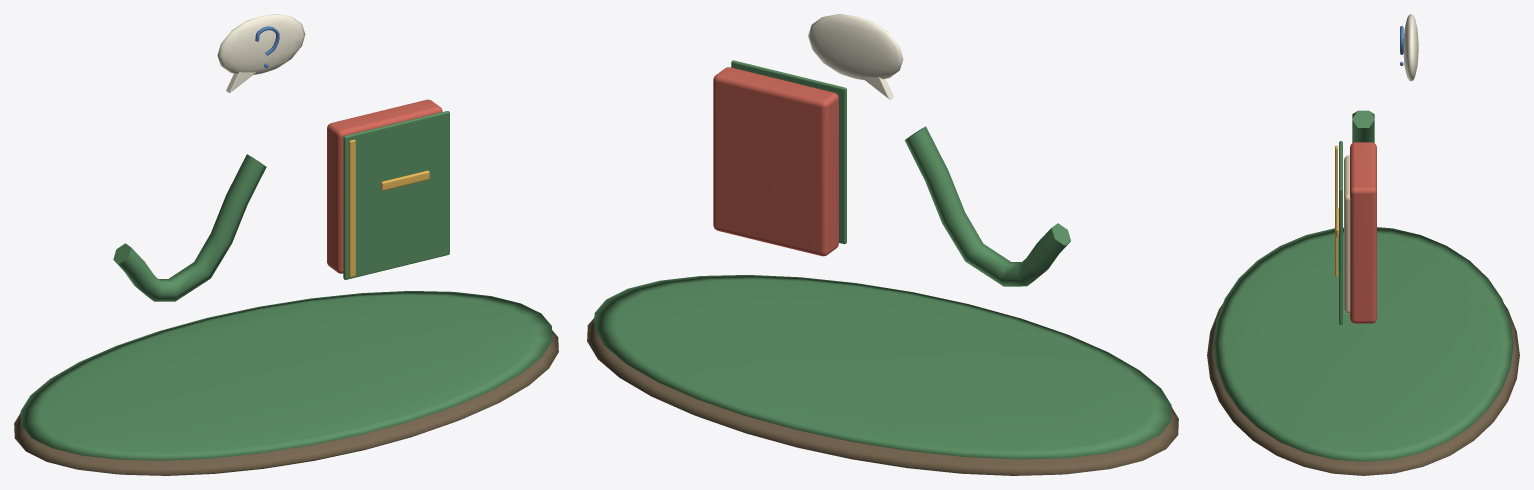
Rendered from complete-third-answer-case-file.glb.
The picture shows the model from 3 angles, left to right: view 1: azimuth 30°, elevation 25°; view 2: azimuth 150°, elevation 25°; view 3: azimuth 270°, elevation 25°; orthographic projection. The views are drawn at different scales.
Visible parts, largest first — view 1: complete-third-answer-case-file_surface_01, complete-third-answer-case-file_surface_00, complete-third-answer-case-file_surface_02, complete-third-answer-case-file_surface_05, complete-third-answer-case-file_surface_04; view 2: complete-third-answer-case-file_surface_01, complete-third-answer-case-file_surface_02, complete-third-answer-case-file_surface_00, complete-third-answer-case-file_surface_05; view 3: complete-third-answer-case-file_surface_01, complete-third-answer-case-file_surface_00, complete-third-answer-case-file_surface_02, complete-third-answer-case-file_surface_03, complete-third-answer-case-file_surface_05, complete-third-answer-case-file_surface_04.
Boxes of the visible parts, x1=… form: complete-third-answer-case-file_surface_01: x1=20, y1=111, x2=552, y2=460; complete-third-answer-case-file_surface_00: x1=14, y1=330, x2=558, y2=475; complete-third-answer-case-file_surface_02: x1=327, y1=99, x2=442, y2=273; complete-third-answer-case-file_surface_05: x1=217, y1=14, x2=305, y2=92; complete-third-answer-case-file_surface_04: x1=349, y1=139, x2=429, y2=277; complete-third-answer-case-file_surface_01: x1=594, y1=60, x2=1171, y2=459; complete-third-answer-case-file_surface_02: x1=713, y1=67, x2=838, y2=256; complete-third-answer-case-file_surface_00: x1=587, y1=318, x2=1178, y2=475; complete-third-answer-case-file_surface_05: x1=808, y1=14, x2=903, y2=99; complete-third-answer-case-file_surface_01: x1=1213, y1=110, x2=1513, y2=461; complete-third-answer-case-file_surface_00: x1=1207, y1=304, x2=1519, y2=475; complete-third-answer-case-file_surface_02: x1=1350, y1=142, x2=1376, y2=323; complete-third-answer-case-file_surface_03: x1=1344, y1=155, x2=1350, y2=313; complete-third-answer-case-file_surface_05: x1=1403, y1=14, x2=1418, y2=81; complete-third-answer-case-file_surface_04: x1=1335, y1=145, x2=1338, y2=276.
Bounding box in the file's own units: 4.56 × 3.08 × 2.5.
